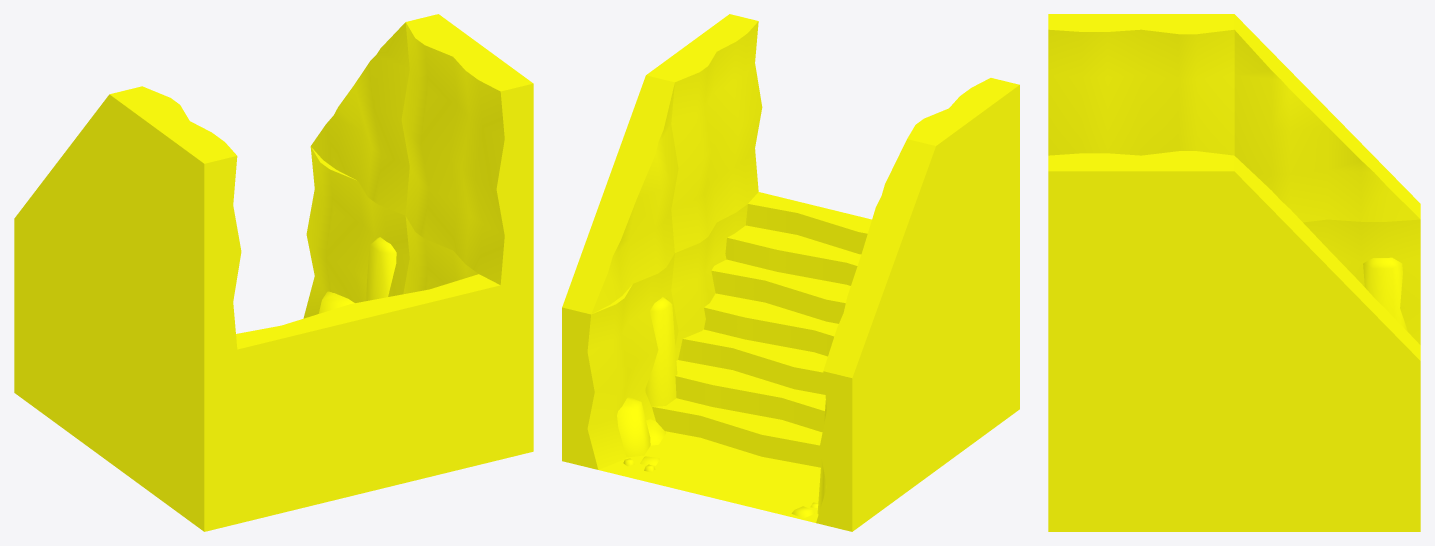
File: 建筑构件_楼梯_宽石阶.glb
3 views of the same model, side by side, from view 1: azimuth 30°, elevation 25°; view 2: azimuth 150°, elevation 25°; view 3: azimuth 270°, elevation 25° (orthographic). The views are drawn at different scales.
Parts seen in each view (by area): view 1: stairs-wide; view 2: stairs-wide; view 3: stairs-wide.
Boxes of the visible parts, box(x1,y1,x2,y2) form: stairs-wide: box(14, 14, 533, 531); stairs-wide: box(562, 14, 1019, 531); stairs-wide: box(1048, 14, 1420, 531).
Bounding box in the file's own units: 8 × 8.55 × 8.
Materials: 1 (1 with a texture image).
